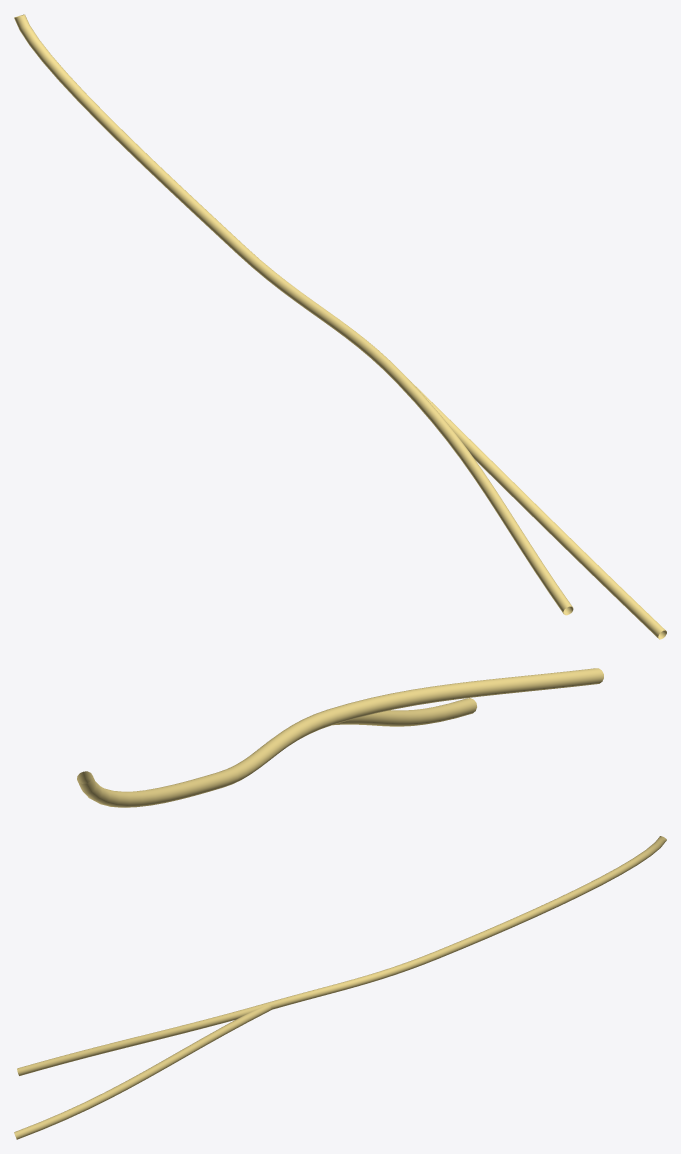
3 renders of one model, top to bottom at view 1: azimuth 30°, elevation 25°; view 2: azimuth 150°, elevation 25°; view 3: azimuth 270°, elevation 25°, orthographic. The views are drawn at different scales.
Parts seen in each view (by area): view 1: ZA_2cd2382467607c83; view 2: ZA_2cd2382467607c83; view 3: ZA_2cd2382467607c83.
Part boxes in pixels (box(x1,y1,x2,y2)): ZA_2cd2382467607c83: box(14, 14, 666, 639); ZA_2cd2382467607c83: box(77, 668, 603, 807); ZA_2cd2382467607c83: box(14, 836, 666, 1139).
Size of the model in its own units: 0.0196 by 0.0323 by 0.08.
